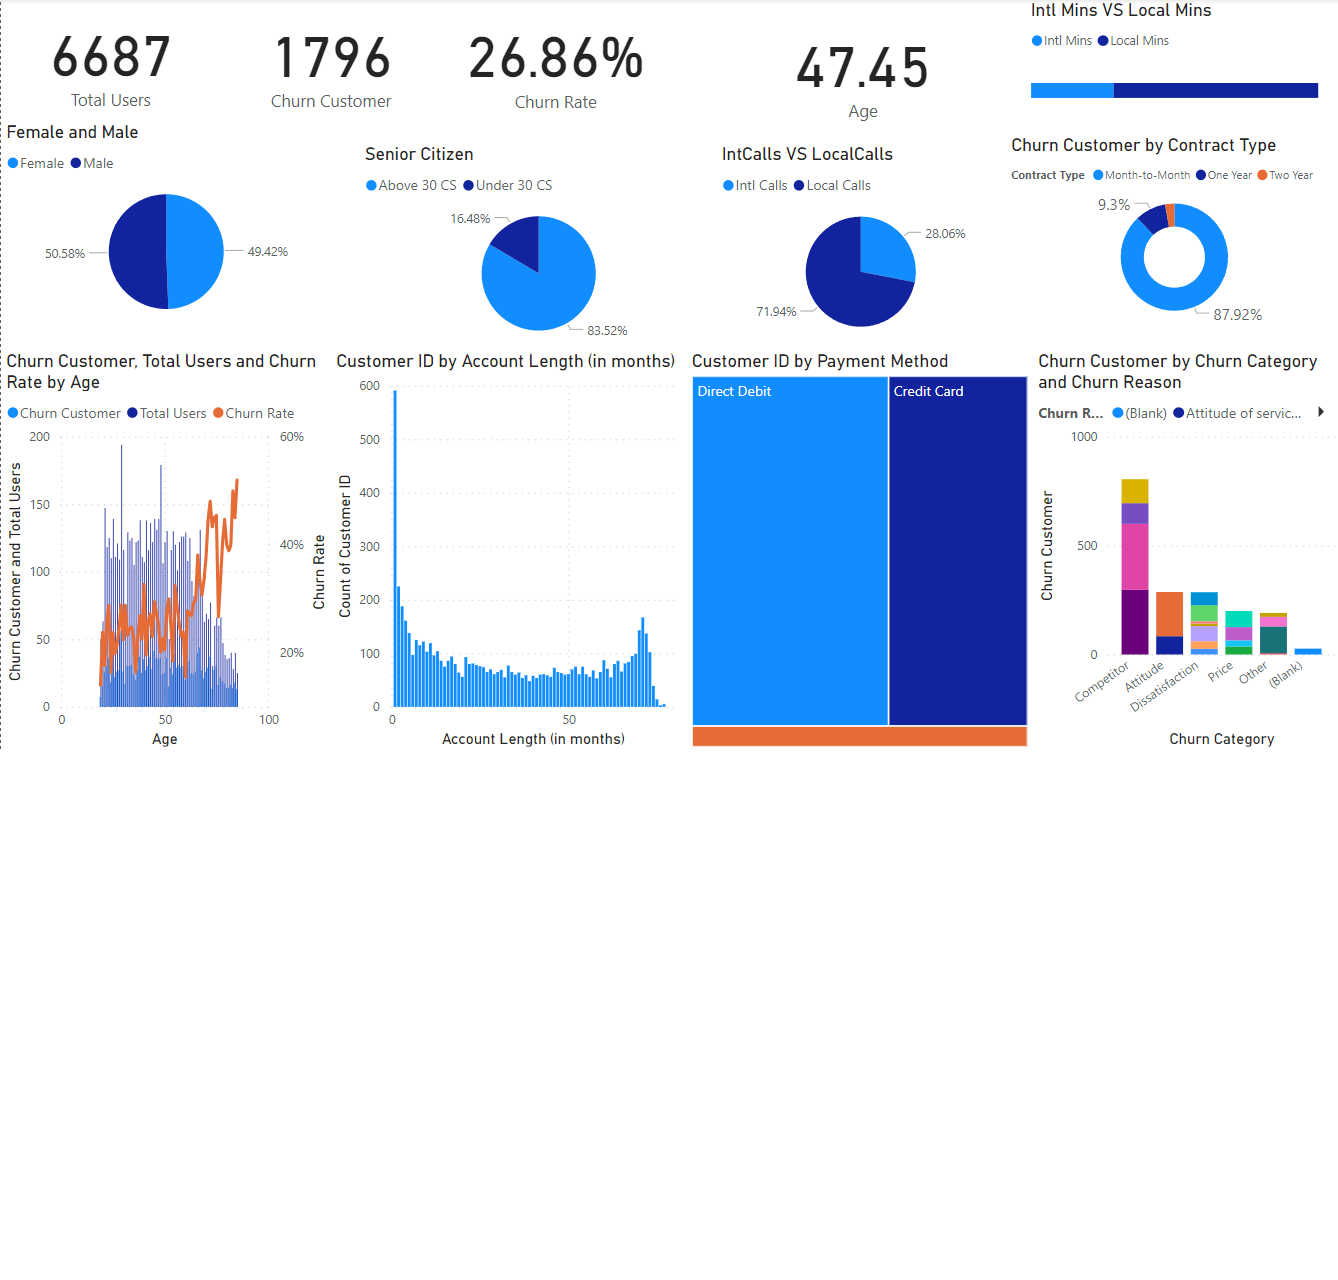

What the dashboard file says about the page in this screenshot:
{"tool":"powerbi","page":{"name":"Page 1","canvas":[1280,720],"ordinal":0},"visuals":[{"type":"card","fields":{"Values":["Mini project 1 - Data.Total Users"]},"box":[0,0,209,116.9],"z":0},{"type":"card","fields":{"Values":["Mini project 1 - Data.Churn Rate"]},"box":[418,1.6,222.5,117.6],"z":1000},{"type":"pieChart","fields":{"Y":["Mini project 1 - Data.Female","Mini project 1 - Data.Male"]},"box":[0,117.6,314.7,200.3],"z":2000},{"type":"pieChart","title":"Senior Citizen","fields":{"Y":["Mini project 1 - Data.Above 30 CS","Mini project 1 - Data.Churn Customer Under 30"]},"box":[341.7,138.3,341.7,198.7],"z":3000},{"type":"card","fields":{"Values":["Mini project 1 - Data.Churn Customer"]},"box":[184.4,0,260.7,119.2],"z":4000},{"type":"treemap","title":"Customer ID by Payment Method","fields":{"Group":["Mini project 1 - Data.Payment Method"],"Values":["CountNonNull(Mini project 1 - Data.Customer ID)"]},"box":[654.8,337,330.6,383],"z":5000},{"type":"donutChart","fields":{"Category":["Mini project 1 - Data.Contract Type"],"Y":["Mini project 1 - Data.Churn Customer"]},"box":[958.4,130.3,321.1,187.5],"z":6000},{"type":"columnChart","fields":{"Category":["Mini project 1 - Data.Churn Category"],"Y":["Mini project 1 - Data.Churn Customer"],"Series":["Mini project 1 - Data.Churn Reason"]},"box":[985.4,337,294,383],"z":7000},{"type":"hundredPercentStackedBarChart","title":"Intl Mins VS Local Mins","fields":{"Y":["Sum(Mini project 1 - Data.Intl Mins)","Sum(Mini project 1 - Data.Local Mins)"]},"box":[977.5,1.6,284.5,119.2],"z":8000},{"type":"pieChart","title":"IntCalls VS LocalCalls","fields":{"Y":["Sum(Mini project 1 - Data.Intl Calls)","Sum(Mini project 1 - Data.Local Calls)"]},"box":[683.4,138.3,275,195.5],"z":9000},{"type":"clusteredColumnChart","title":"Customer ID by Account Length (in months)","fields":{"Category":["Mini project 1 - Data.Account Length (in months)"],"Y":["CountNonNull(Mini project 1 - Data.Customer ID)"]},"box":[314.7,337,340.1,383],"z":10000},{"type":"lineClusteredColumnComboChart","fields":{"Category":["Mini project 1 - Data.Age"],"Y":["Mini project 1 - Data.Churn Customer","Mini project 1 - Data.Total Users"],"Y2":["Mini project 1 - Data.Churn Rate"]},"box":[0,337,315,383],"z":11000},{"type":"card","fields":{"Values":["Avg(Mini project 1 - Data.Age)"]},"box":[685,0,273.4,138.3],"z":12000}]}

Visuals, with their boxes on the page's 1280x720 design canvas (x1, y1, x2, y2). These are canvas units, not pixel positions in the 1338x1280 screenshot, which may show the page scaled, cropped or inside an application window:
card - Mini project 1 - Data.Total Users: region(0, 0, 209, 117)
card - Mini project 1 - Data.Churn Rate: region(418, 2, 640, 119)
pieChart - Mini project 1 - Data.Female x Mini project 1 - Data.Male: region(0, 118, 315, 318)
"Senior Citizen" pieChart: region(342, 138, 683, 337)
card - Mini project 1 - Data.Churn Customer: region(184, 0, 445, 119)
"Customer ID by Payment Method" treemap: region(655, 337, 985, 720)
donutChart - Mini project 1 - Data.Contract Type x Mini project 1 - Data.Churn Customer: region(958, 130, 1280, 318)
columnChart - Mini project 1 - Data.Churn Category x Mini project 1 - Data.Churn Customer: region(985, 337, 1279, 720)
"Intl Mins VS Local Mins" hundredPercentStackedBarChart: region(978, 2, 1262, 121)
"IntCalls VS LocalCalls" pieChart: region(683, 138, 958, 334)
"Customer ID by Account Length (in months)" clusteredColumnChart: region(315, 337, 655, 720)
lineClusteredColumnComboChart - Mini project 1 - Data.Age x Mini project 1 - Data.Churn Customer: region(0, 337, 315, 720)
card - Avg(Mini project 1 - Data.Age): region(685, 0, 958, 138)
